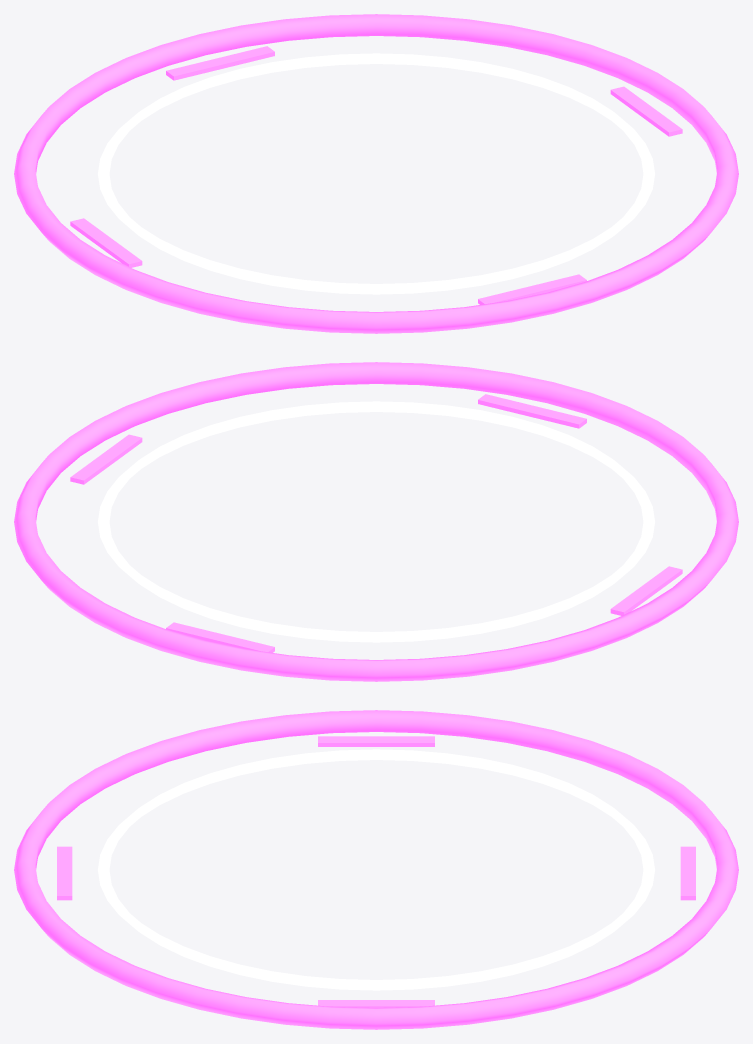
Rendered from floor_decal_deck_ring.glb.
3 renders of one model, top to bottom at view 1: azimuth 30°, elevation 25°; view 2: azimuth 150°, elevation 25°; view 3: azimuth 270°, elevation 25°, orthographic.
Visible parts, largest first — view 1: GD_floor_decal_deck_ring__m0, GD_floor_decal_deck_ring__m1; view 2: GD_floor_decal_deck_ring__m0, GD_floor_decal_deck_ring__m1; view 3: GD_floor_decal_deck_ring__m0, GD_floor_decal_deck_ring__m1.
Part boxes in pixels (x1,y1,x2,y2): GD_floor_decal_deck_ring__m0: (14,14,738,333); GD_floor_decal_deck_ring__m1: (98,53,654,294); GD_floor_decal_deck_ring__m0: (14,362,738,681); GD_floor_decal_deck_ring__m1: (98,401,654,642); GD_floor_decal_deck_ring__m0: (14,710,738,1029); GD_floor_decal_deck_ring__m1: (98,749,654,990).
Size of the model in its own units: 1.86 by 0.0571 by 1.86.
